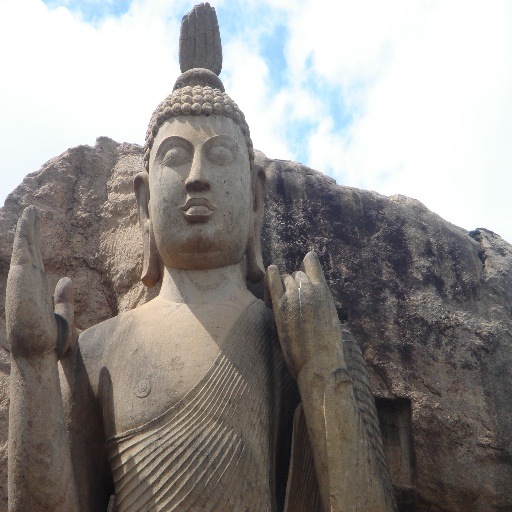hand: (266, 246, 338, 408), (4, 202, 75, 354)
